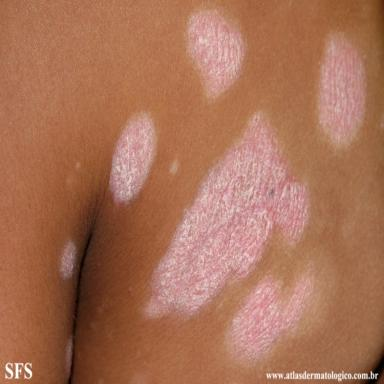Psoriasis: (148, 116, 309, 317), (229, 274, 313, 361), (187, 10, 245, 99), (319, 38, 365, 144), (109, 113, 156, 205), (60, 241, 78, 279), (169, 157, 180, 175), (67, 339, 73, 369)
